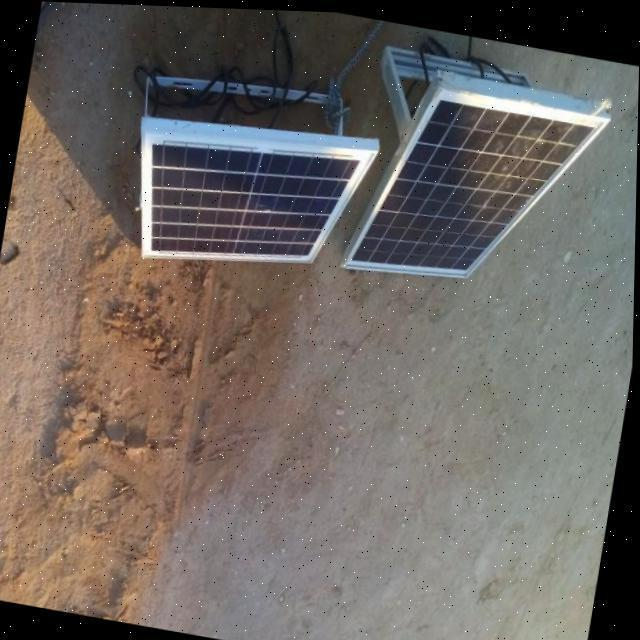Normal Solar Panel: (346, 68, 610, 304), (123, 106, 378, 292)
